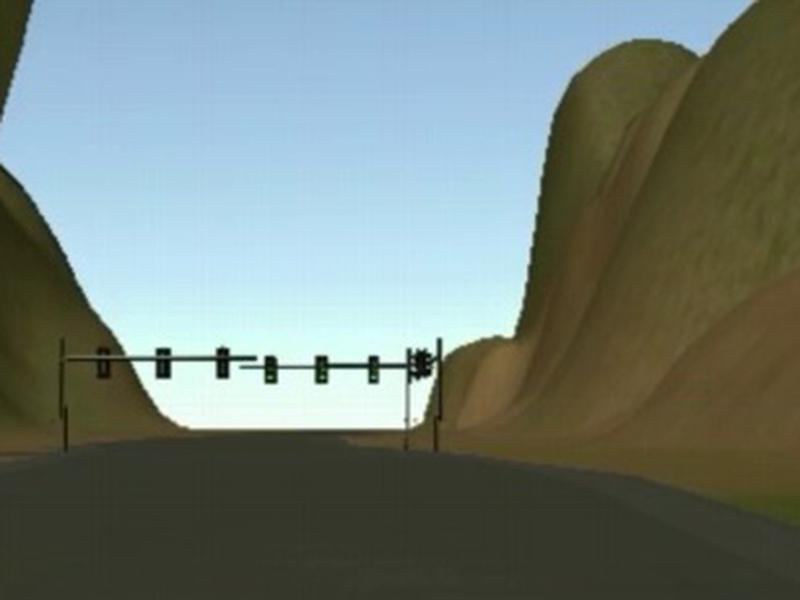Green: (264, 354, 277, 384), (314, 356, 328, 383), (368, 355, 380, 383)
